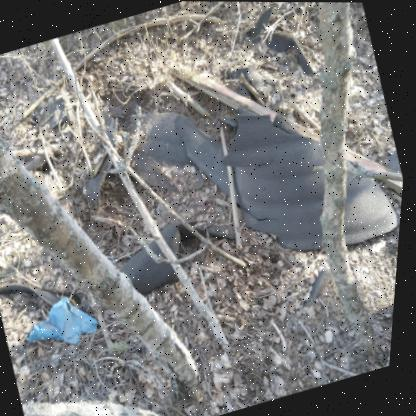Plastic: (0, 220, 238, 312), (247, 2, 314, 74), (32, 296, 101, 343), (220, 66, 275, 96), (306, 267, 335, 305), (49, 94, 68, 128), (383, 150, 404, 172)
Waste: (54, 353, 64, 367)
